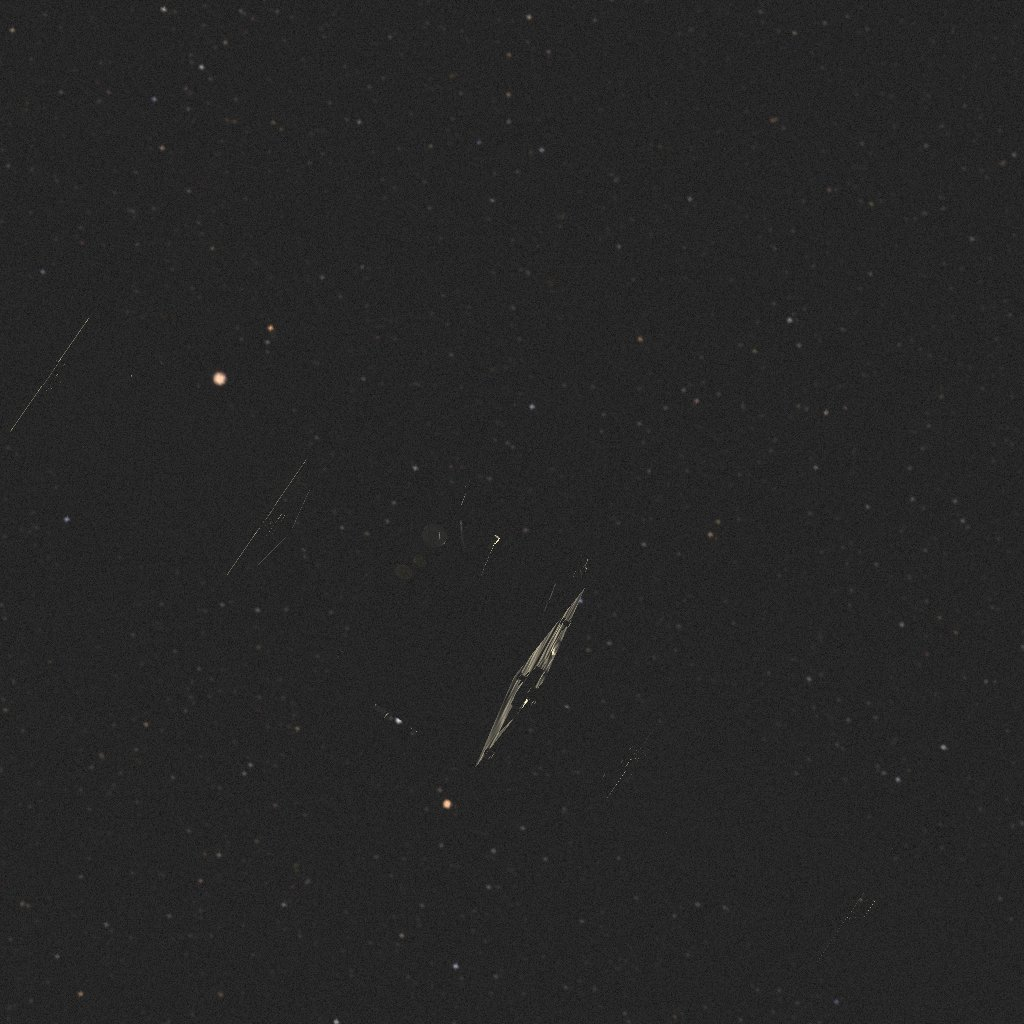smart_1: (0, 259, 1024, 1024)
